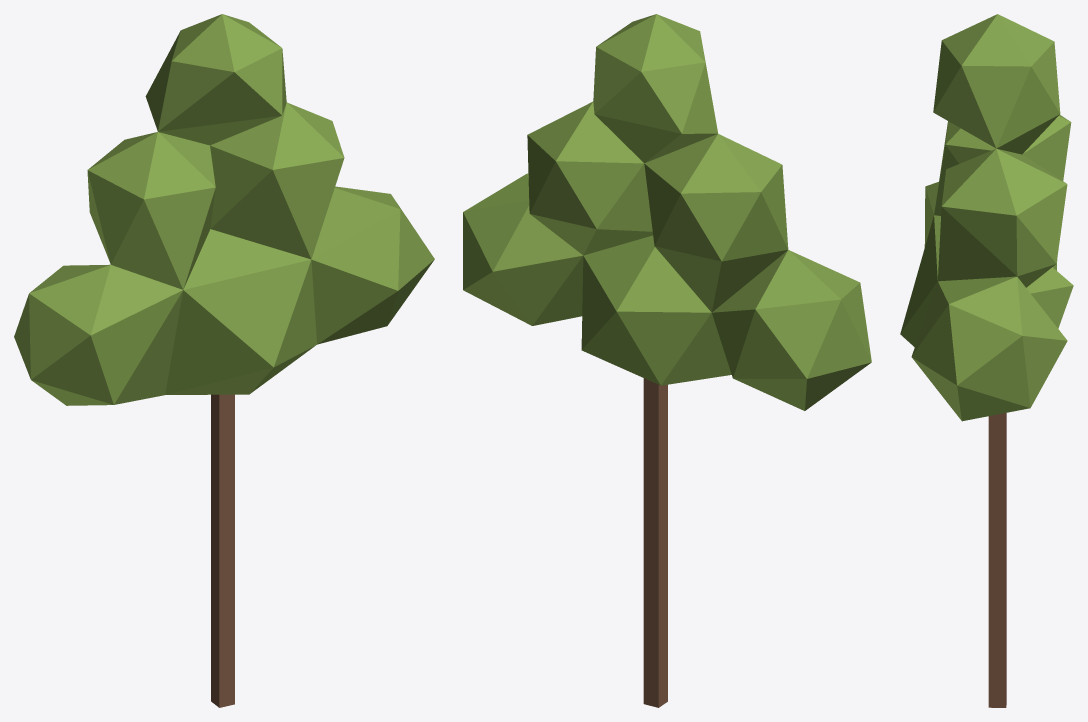
Rendered from deciduous_tree_7.fbx.
3 views of the same model, side by side, from view 1: azimuth 30°, elevation 25°; view 2: azimuth 150°, elevation 25°; view 3: azimuth 270°, elevation 25° (orthographic).
Parts seen in each view (by area): view 1: deciduous_tree_7; view 2: deciduous_tree_7; view 3: deciduous_tree_7.
Boxes of the visible parts, x1=… form: deciduous_tree_7: x1=14, y1=14, x2=434, y2=707; deciduous_tree_7: x1=463, y1=14, x2=871, y2=707; deciduous_tree_7: x1=900, y1=14, x2=1073, y2=707.
Size of the model in its own units: 364 by 605 by 138.
